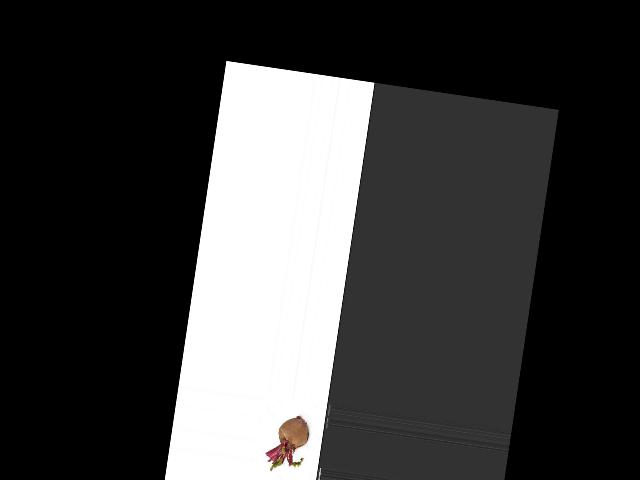beet: (263, 411, 311, 475)
